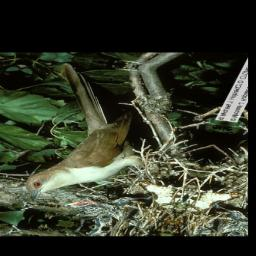Cuckoo: (0, 62, 188, 213)
